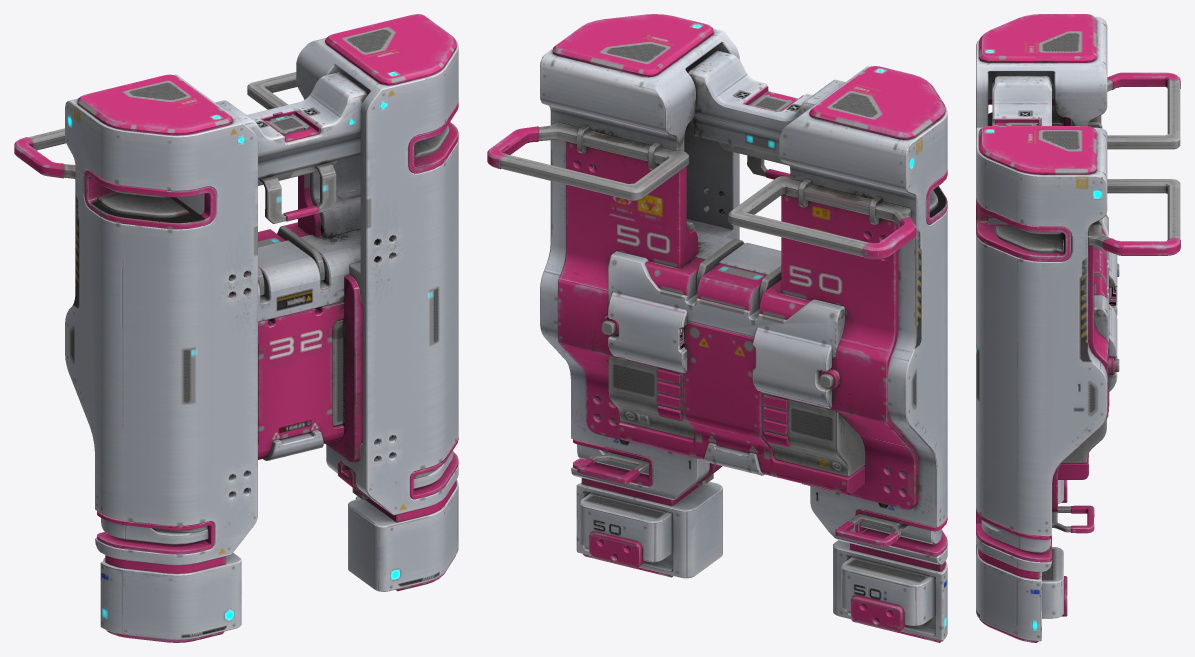
Rendered from medstation.glb.
3 views of the same model, side by side, from view 1: azimuth 30°, elevation 25°; view 2: azimuth 150°, elevation 25°; view 3: azimuth 270°, elevation 25° (orthographic). The views are drawn at different scales.
Parts seen in each view (by area): view 1: Slice.030; view 2: Slice.030; view 3: Slice.030.
Boxes of the visible parts, <box> form: Slice.030: <box>14,14,458,642</box>; Slice.030: <box>487,14,947,642</box>; Slice.030: <box>976,14,1180,642</box>.
Size of the model in its own units: 1.15 by 1.46 by 0.5704.
Materials: 1 (1 with a texture image).
